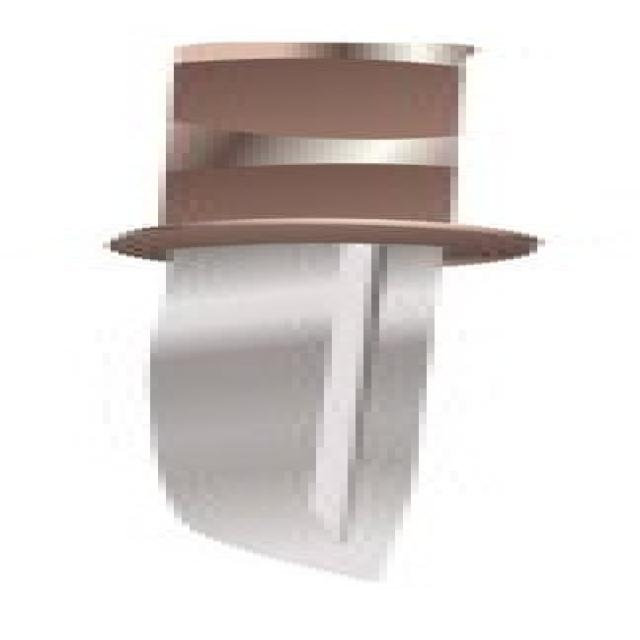knife: (122, 30, 545, 586)
